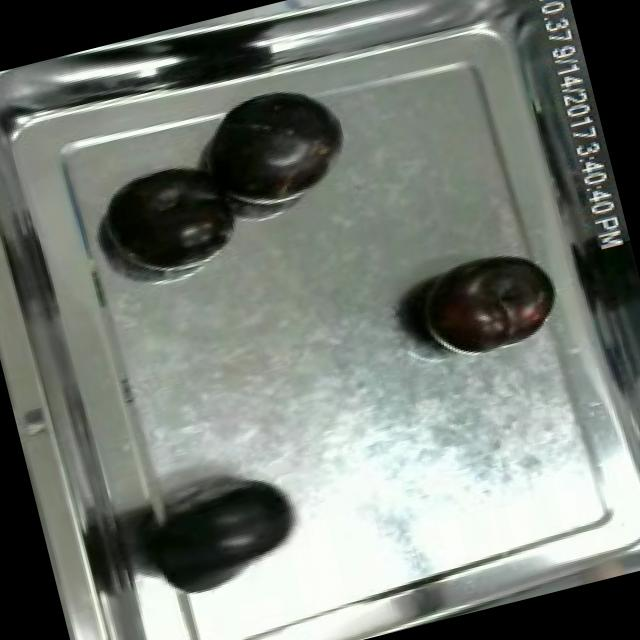Fruit: (192, 72, 358, 217), (138, 466, 314, 600), (400, 238, 566, 368), (96, 152, 248, 279)
